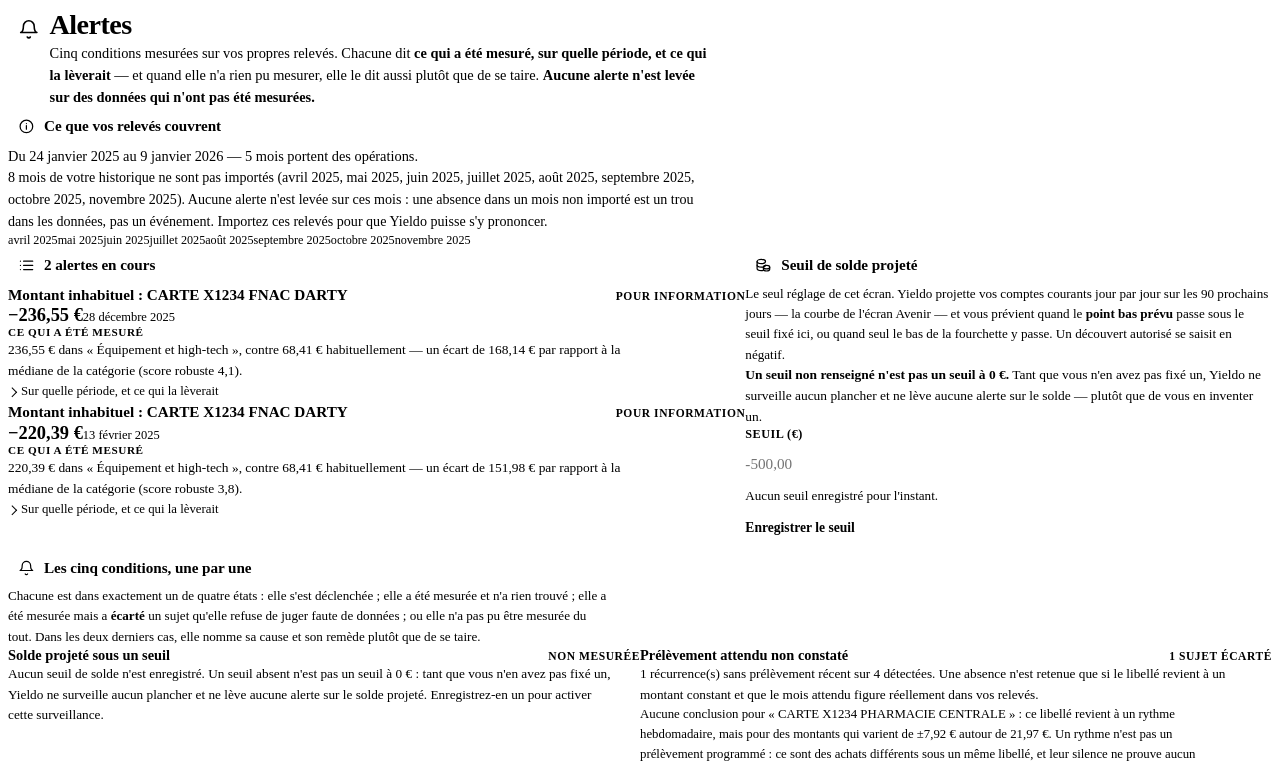
Scenario: AlertsPage — the threshold › re-reads the whole report after a change, never patching the settings alone
Type "-500" into the field labelled "Seuil (€)". click: (1009, 464)
box: left=745, top=442, right=1272, bottom=486
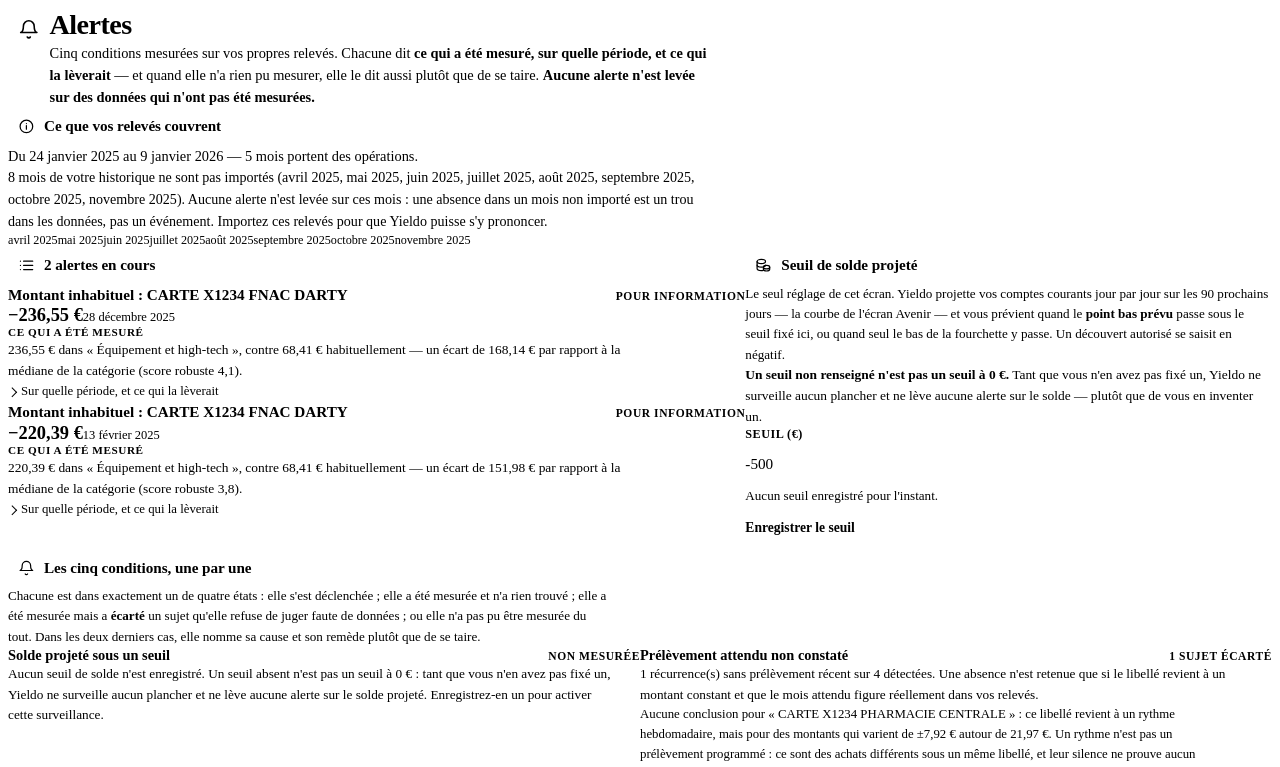
Click the button "Enregistrer le seuil". click: (800, 528)
box: left=745, top=506, right=855, bottom=550
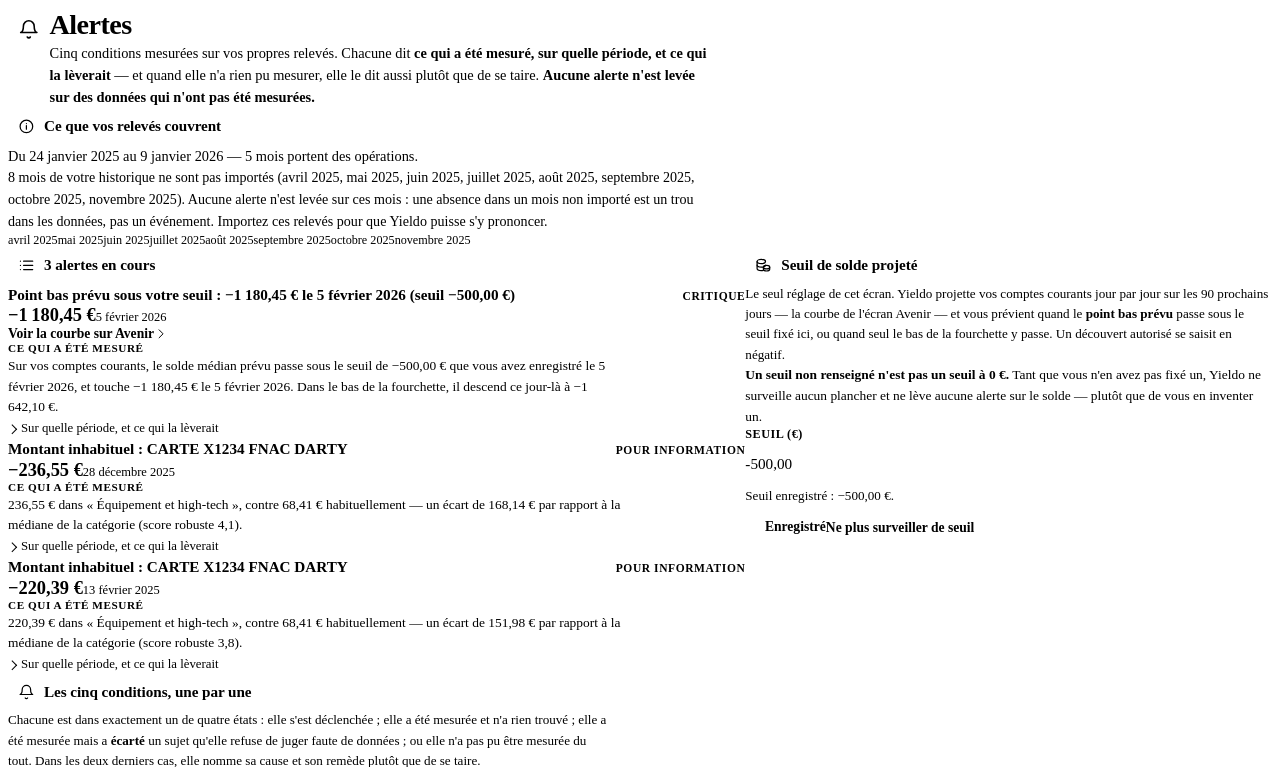
Now the list item with test id "yd-alert-balance_floor" shows "le solde médian prévu passe sous le seuil", box left=8, top=358, right=605, bottom=414
Now the list item with test id "yd-alert-balance_floor" shows "Critique", box left=682, top=290, right=745, bottom=302
